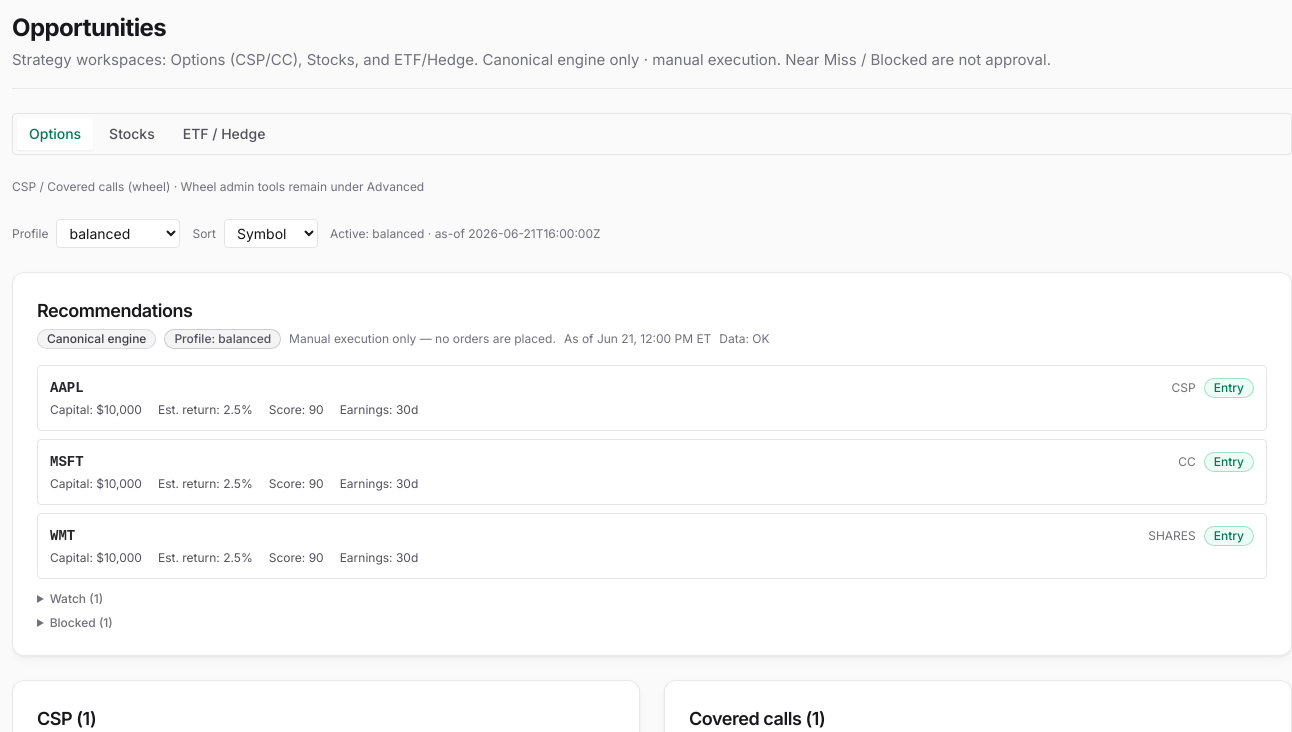
Test: OpportunitiesPage › ETF/Hedge workspace is honest deferred empty state
Click the tab with test id "opp-tab-etf-hedge" at (224, 134), box [171,118,277,150]
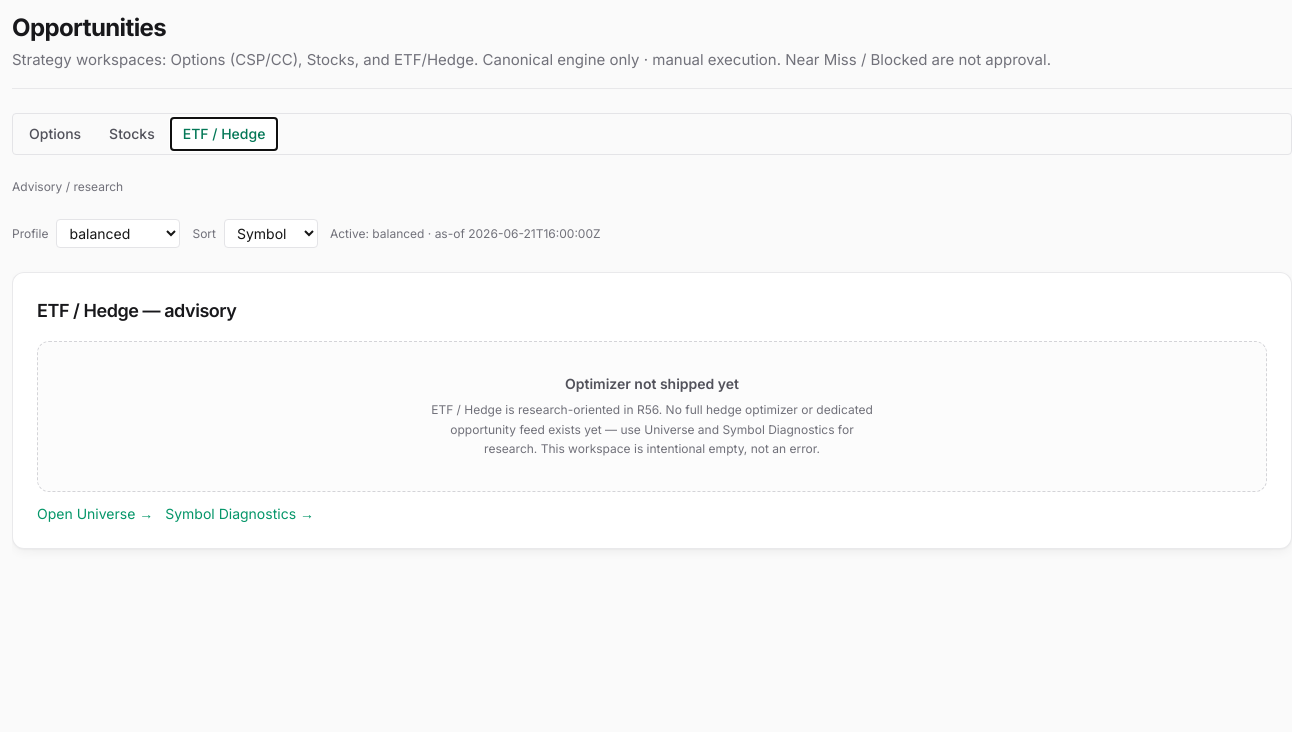
Result: the element with test id "opp-section-etf-hedge" is shown at [12,272,1291,549]
Result: the heading "Optimizer not shipped yet" is shown at [565,375,739,392]
